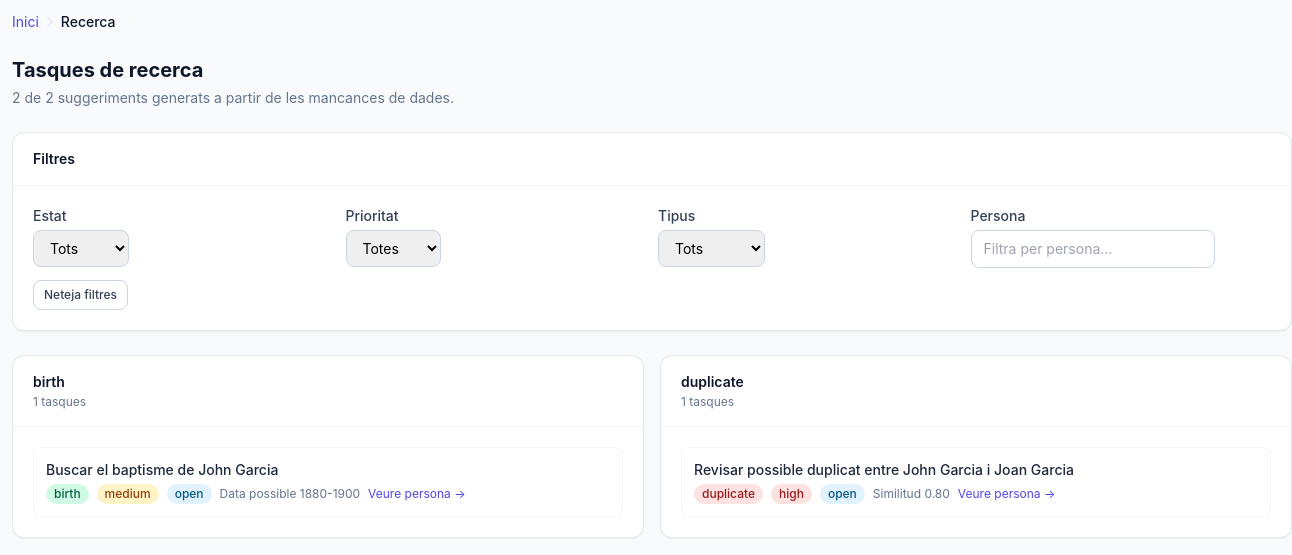
Test: ResearchPage › filtra per tipus
This screenshot has width=1292, height=555.
Expected: the heading "Tasques de recerca" is shown, [12,58,203,82]
Select "birth" in the dropdown labelled "Tipus" at [712, 248], box [658,230,765,267]
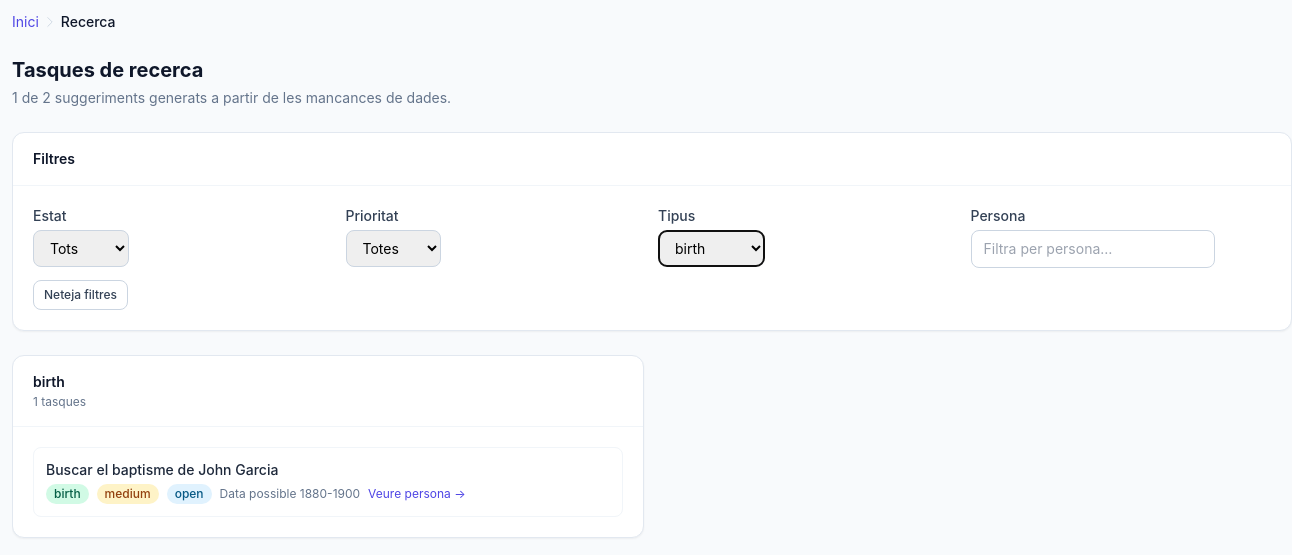
Expected: the text "Buscar el baptisme de John Garcia" is shown, [46,461,278,478]
Expected: the text "Revisar possible duplicat entre John Garcia i Joan Garcia" is gone
